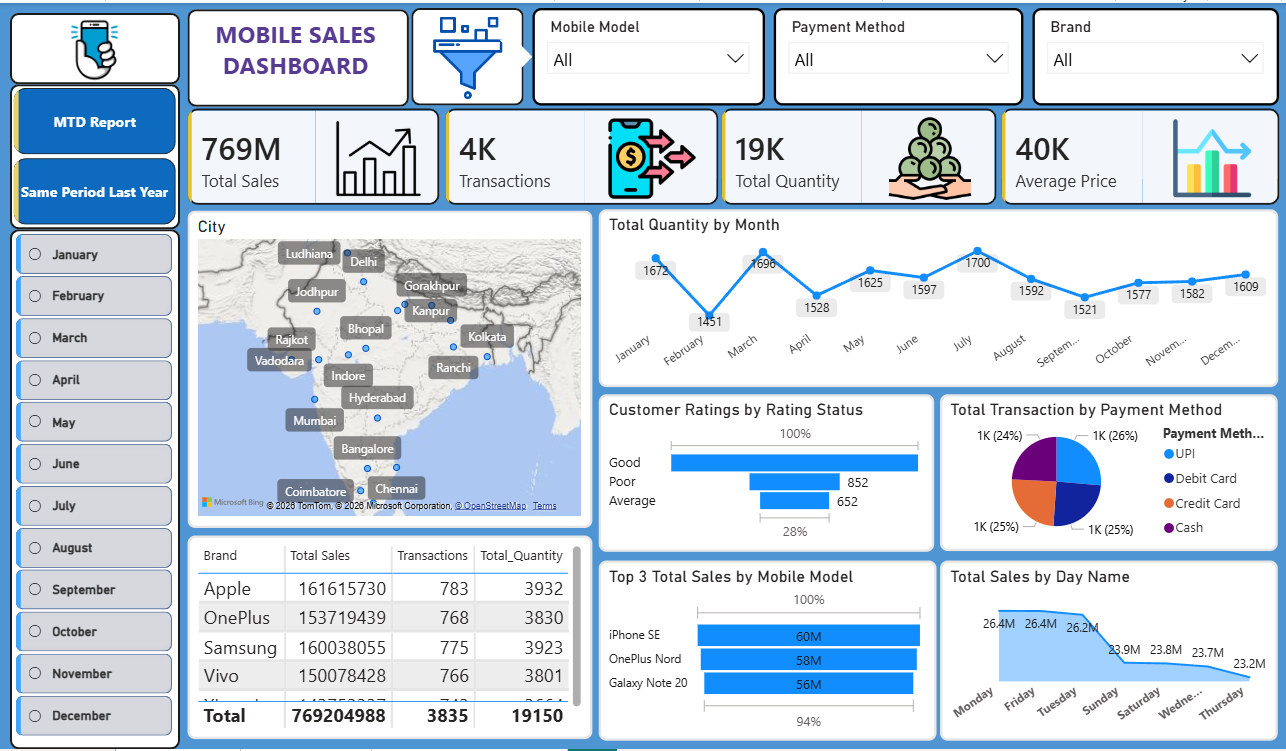

The dashboard page shown, as its layout file describes it:
{"tool":"powerbi","page":{"name":"Dashboard","canvas":[1320,765],"ordinal":0},"visuals":[{"type":"shape","box":[10.3,10.3,174.3,73.1],"z":0},{"type":"image","box":[41,15.4,111.5,64.1],"z":1000},{"type":"shape","box":[10.3,83.3,174.3,148.7],"z":2000},{"type":"group","id":"g1","title":"Group 1","box":[184.6,100,1136,115.4],"z":3000},{"type":"shape","box":[10.3,232,174.3,533.2],"z":3000,"group":"g2"},{"type":"shape","box":[192,6.4,227,100],"z":4000},{"type":"advancedSlicerVisual","fields":{"Values":["Custom_Calender.Date.Variation.Date Hierarchy.Month"]},"box":[11.6,232,170.5,533.2],"z":4000,"group":"g2"},{"type":"textbox","box":[196.1,10.3,214.1,89.7],"z":5000},{"type":"cardVisual","fields":{"Data":["Sales_Data.Total Sales"]},"box":[184.6,100,274.7,115.3],"z":5000,"group":"g1"},{"type":"slicer","fields":{"Values":["Sales_Data.Mobile Model"]},"box":[546.1,5.1,238,100],"z":6000},{"type":"cardVisual","fields":{"Data":["Sales_Data.Total Transaction"]},"box":[448.1,100,296.1,115.3],"z":6000,"group":"g1"},{"type":"slicer","fields":{"Values":["Sales_Data.Brand"]},"box":[1058.8,5.1,252.5,100],"z":7000},{"type":"cardVisual","fields":{"Data":["Sales_Data.Average Price"]},"box":[1019.1,100,301.5,115.3],"z":7000,"group":"g1"},{"type":"slicer","fields":{"Values":["Sales_Data.Payment Method"]},"box":[793.5,5.1,256.4,100],"z":8000},{"type":"cardVisual","fields":{"Data":["Sales_Data.Total_Quantity"]},"box":[732,100,298.8,115.3],"z":8000,"group":"g1"},{"type":"shape","box":[421.7,5.1,115.4,100],"z":9000},{"type":"image","box":[421.7,12.8,115.4,87.2],"z":10000},{"type":"shape","box":[511.5,37.2,34.6,35.9],"z":11000},{"type":"map","fields":{"Category":["Sales_Data.City"]},"box":[192.3,212.8,415.3,325.6],"z":12000},{"type":"lineChart","fields":{"Y":["Sales_Data.Total_Quantity"],"Category":["Custom_Calender.Date.Variation.Date Hierarchy.Month"]},"box":[614,212,697,182],"z":13000},{"type":"funnel","title":"Customer Ratings by Rating Status","fields":{"Y":["CountNonNull(Sales_Data.Customer Ratings)"],"Category":["Sales_Data.Rating Status"]},"box":[614,401.2,344,161.5],"z":14000},{"type":"pieChart","fields":{"Y":["Sales_Data.Total Transaction"],"Category":["Sales_Data.Payment Method"]},"box":[964,401,346,161],"z":15000},{"type":"funnel","title":"Top 3 Total Sales by Mobile Model","fields":{"Y":["Sales_Data.Total Sales"],"Category":["Sales_Data.Mobile Model"]},"box":[614,571.7,346,184.6],"z":16000},{"type":"areaChart","title":"Total Sales by Day Name","fields":{"Category":["Custom_Calender.Day Name"],"Y":["Sales_Data.Total Sales"]},"box":[964,571.7,346.1,184.6],"z":17000},{"type":"tableEx","fields":{"Values":["Sales_Data.Brand","Sales_Data.Total Sales","Sales_Data.Total Transaction","Sales_Data.Total_Quantity"]},"box":[192.3,546,415.3,209],"z":18000},{"type":"group","id":"g2","title":"Group 2","box":[10.3,232,174.3,533.2],"z":19000},{"type":"pageNavigator","box":[14,87,166,141],"z":19001}]}

Visuals, with their boxes in screenshot pixels (x1, y1, x2, y2), scaled from the page's 1320x765 canvas onto the 1286x751 screenshot:
shape: 10, 10, 180, 82
image: 40, 15, 149, 78
shape: 10, 82, 180, 228
"Group 1" group: 180, 98, 1285, 211
shape: 10, 228, 180, 750
shape: 187, 6, 408, 104
advancedSlicerVisual - Custom_Calender.Date.Variation.Date Hierarchy.Month: 11, 228, 177, 750
textbox: 191, 10, 400, 98
cardVisual - Sales_Data.Total Sales: 180, 98, 447, 211
slicer - Sales_Data.Mobile Model: 532, 5, 764, 103
cardVisual - Sales_Data.Total Transaction: 437, 98, 725, 211
slicer - Sales_Data.Brand: 1032, 5, 1278, 103
cardVisual - Sales_Data.Average Price: 993, 98, 1285, 211
slicer - Sales_Data.Payment Method: 773, 5, 1023, 103
cardVisual - Sales_Data.Total_Quantity: 713, 98, 1004, 211
shape: 411, 5, 523, 103
image: 411, 13, 523, 98
shape: 498, 37, 532, 72
map - Sales_Data.City: 187, 209, 592, 529
lineChart - Sales_Data.Total_Quantity x Custom_Calender.Date.Variation.Date Hierarchy.Month: 598, 208, 1277, 387
"Customer Ratings by Rating Status" funnel: 598, 394, 933, 552
pieChart - Sales_Data.Total Transaction x Sales_Data.Payment Method: 939, 394, 1276, 552
"Top 3 Total Sales by Mobile Model" funnel: 598, 561, 935, 742
"Total Sales by Day Name" areaChart: 939, 561, 1276, 742
tableEx - Sales_Data.Brand x Sales_Data.Total Sales: 187, 536, 592, 741
"Group 2" group: 10, 228, 180, 750
pageNavigator: 14, 85, 175, 224
